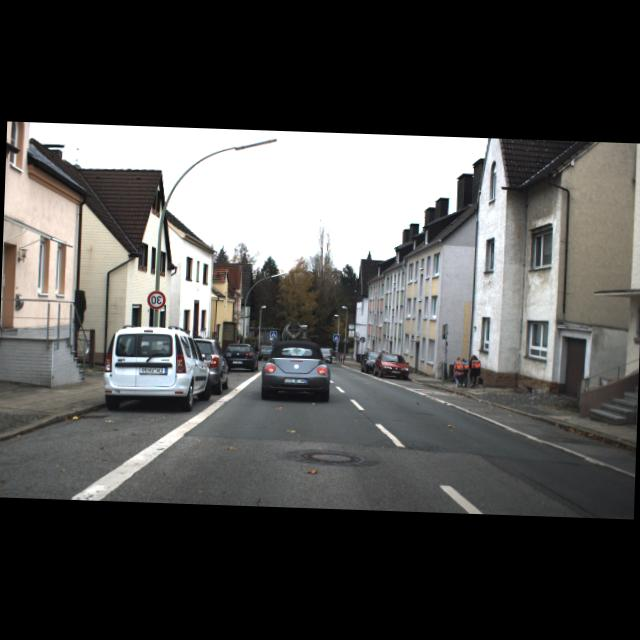prohibitory: (146, 290, 166, 310)
